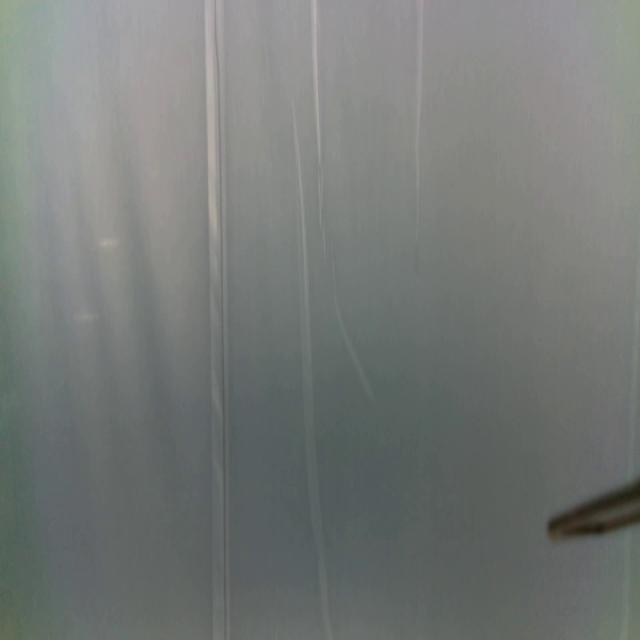crease: (310, 0, 376, 407), (290, 101, 332, 640), (203, 0, 232, 640), (413, 1, 425, 244), (625, 285, 640, 471), (617, 526, 632, 640)
